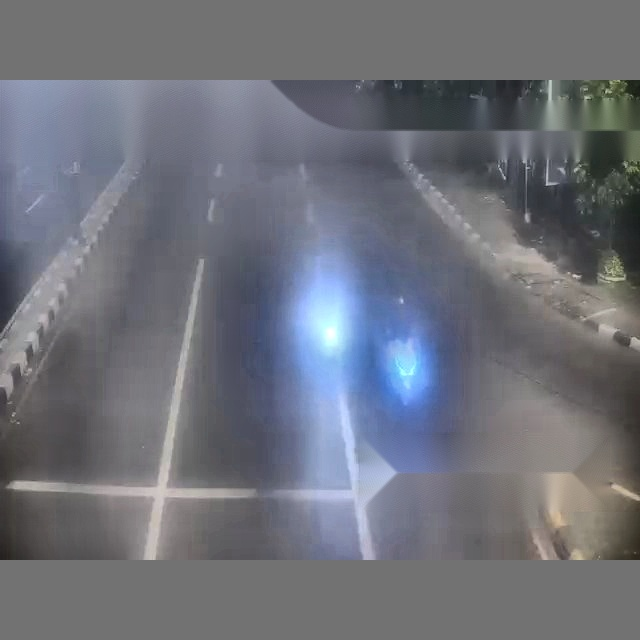Bis: (96, 66, 609, 558)
